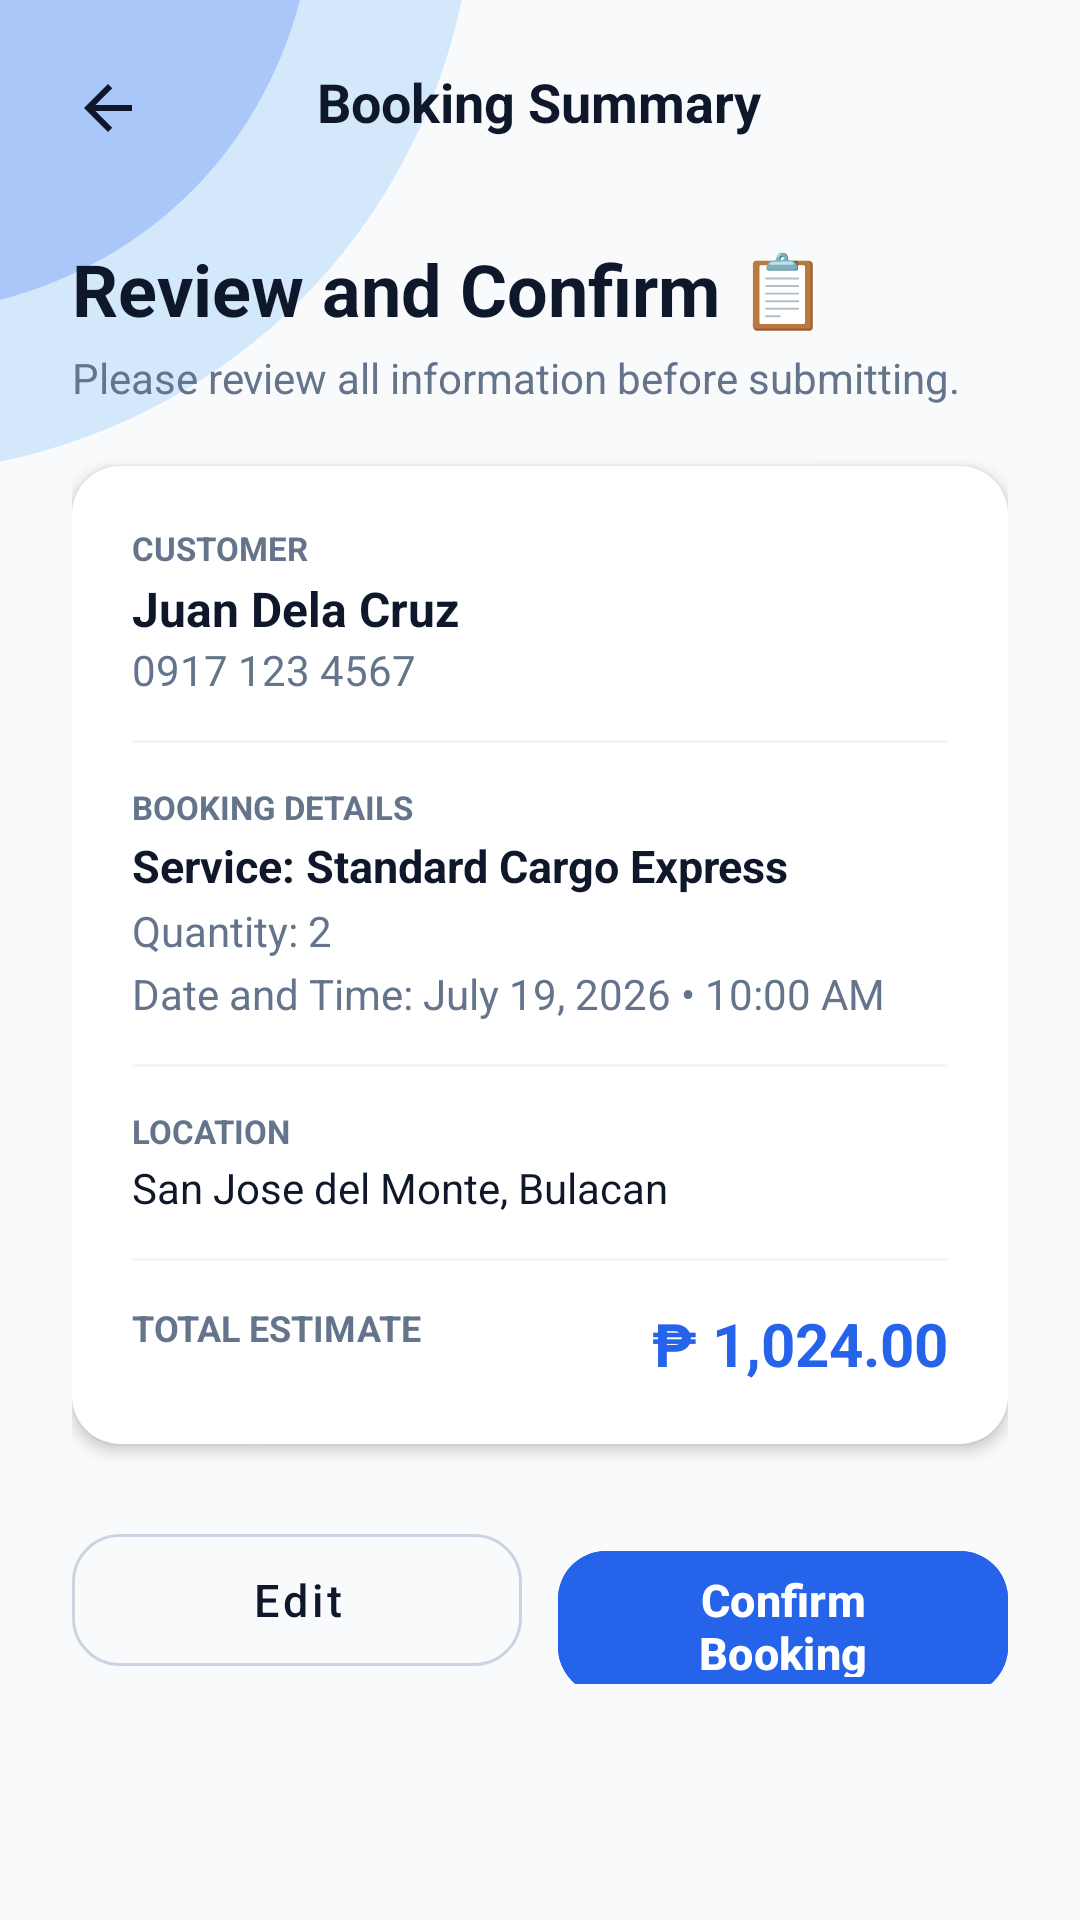

Point at icon controls on the screen. Image size 1080px x 1920px, points as (x=x, y=y).
Back Button: (x=108, y=108)
